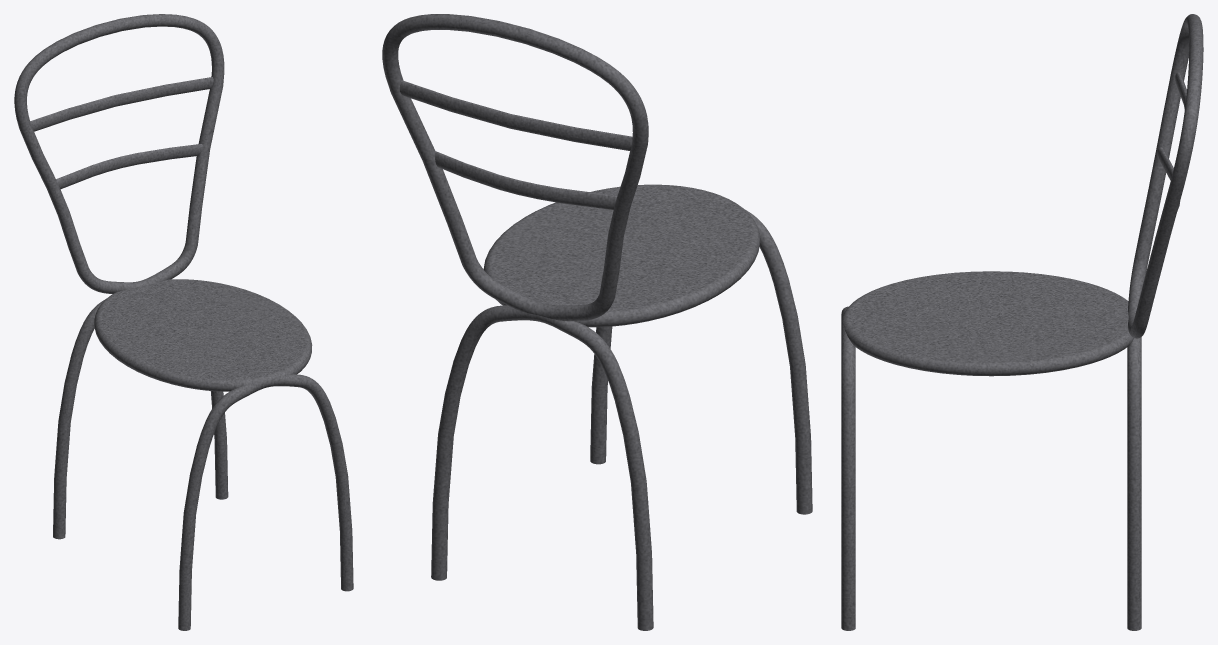
File: Stuhl.fbx
3 views of the same model, side by side, from view 1: azimuth 30°, elevation 25°; view 2: azimuth 150°, elevation 25°; view 3: azimuth 270°, elevation 25° (orthographic). The views are drawn at different scales.
Visible parts, largest first — view 1: Stuhl_1; view 2: Stuhl_1; view 3: Stuhl_1.
Part boxes in pixels (box(x1,y1,x2,y2)): Stuhl_1: box(14, 14, 353, 630); Stuhl_1: box(382, 14, 812, 630); Stuhl_1: box(841, 14, 1203, 630).
Bounding box in the file's own units: 38.24 × 83.79 × 50.67.
Materials: 1 (1 with a texture image).
